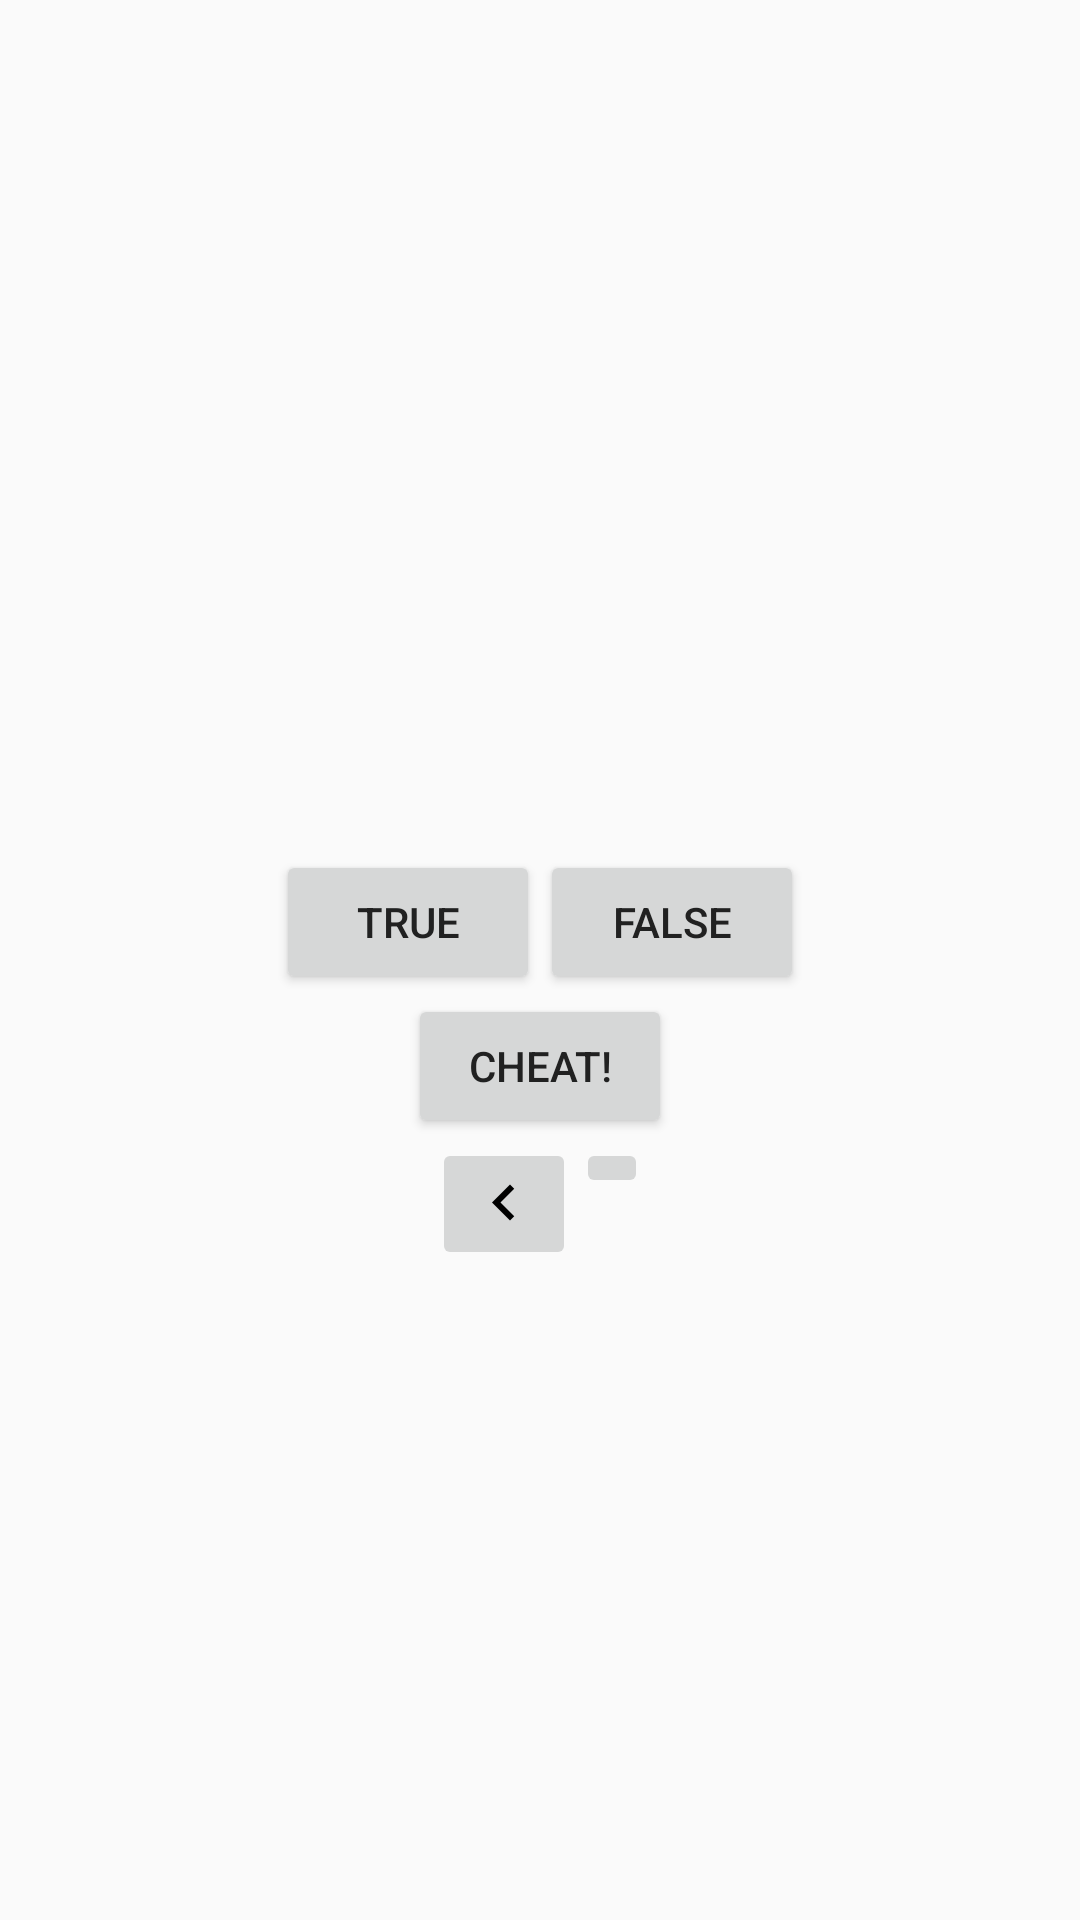

Screen size 1080px×1920px. Icon name, then its box in pixels as (x1, y1, x2, y2):
back arrow: (444, 1156, 564, 1252)
